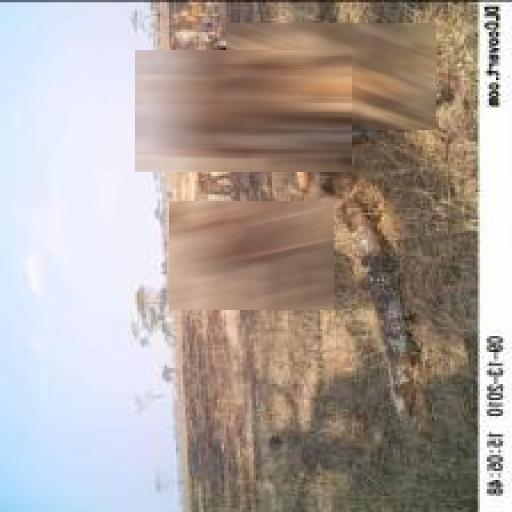lion: (135, 50, 352, 172), (226, 23, 436, 130), (169, 201, 334, 310)
